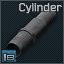ME Cylinder 12ga muzzle adapter: (0, 0, 64, 64)
